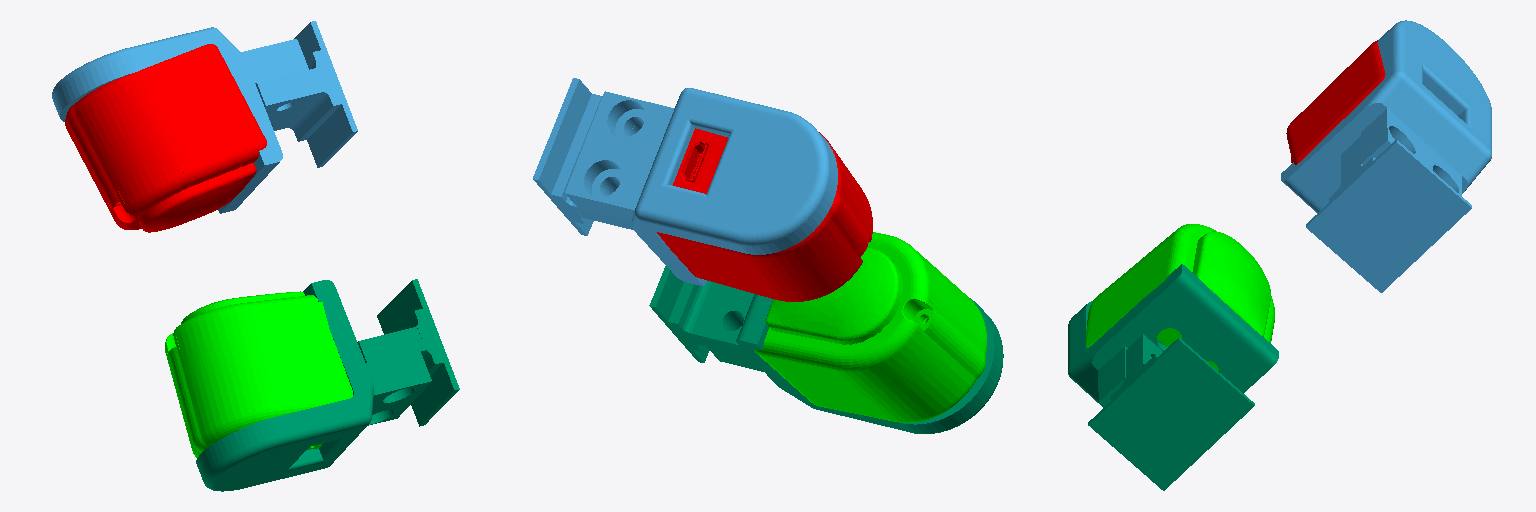
The robot description file, URDF, robot "panda":
<?xml version="1.0" ?>
<!-- =================================================================================== -->
<!-- |    This document was autogenerated by xacro from panda_arm_hand.urdf.xacro      | -->
<!-- |    EDITING THIS FILE BY HAND IS NOT RECOMMENDED                                 | -->
<!-- =================================================================================== -->
<robot name="panda" xmlns:xacro="http://www.ros.org/wiki/xacro">
  <link name="panda_link0">
    <visual>
      <geometry>
        <mesh filename="package://franka_description_digit/meshes/visual/link0.dae"/>
      </geometry>
    </visual>
    <collision>
      <geometry>
        <mesh filename="package://franka_description_digit/meshes/collision/link0.stl"/>
      </geometry>
    </collision>
    <inertial>
      <origin rpy="0 0 0" xyz="0 0 0"/>
      <mass value="2.8142028896"/>
      <inertia ixx="0.0129886979" ixy="0.0" ixz="0.0" iyy="0.0165355284" iyz="0" izz="0.0203311636"/>
    </inertial>
  </link>
  <link name="panda_link1">
    <visual>
      <geometry>
        <mesh filename="package://franka_description_digit/meshes/visual/link1.dae"/>
      </geometry>
    </visual>
    <collision>
      <geometry>
        <mesh filename="package://franka_description_digit/meshes/collision/link1.stl"/>
      </geometry>
    </collision>
    <inertial>
      <origin rpy="0 0 0" xyz="0 0 0"/>
      <mass value="2.3599995791"/>
      <inertia ixx="0.0186863903" ixy="0.0" ixz="0.0" iyy="0.0143789874" iyz="0" izz="0.00906812"/>
    </inertial>
  </link>
  <joint name="panda_joint1" type="revolute">
    <safety_controller k_position="100.0" k_velocity="40.0" soft_lower_limit="-2.8973" soft_upper_limit="2.8973"/>
    <origin rpy="0 0 0" xyz="0 0 0.333"/>
    <parent link="panda_link0"/>
    <child link="panda_link1"/>
    <axis xyz="0 0 1"/>
    <limit effort="87" lower="-2.8973" upper="2.8973" velocity="2.1750"/>
  </joint>
  <link name="panda_link2">
    <visual>
      <geometry>
        <mesh filename="package://franka_description_digit/meshes/visual/link2.dae"/>
      </geometry>
    </visual>
    <collision>
      <geometry>
        <mesh filename="package://franka_description_digit/meshes/collision/link2.stl"/>
      </geometry>
    </collision>
    <inertial>
      <origin rpy="0 0 0" xyz="0 0 0"/>
      <mass value="2.379518833"/>
      <inertia ixx="0.0190388734" ixy="0.0" ixz="0.0" iyy="0.0091429124" iyz="0" izz="0.014697537"/>
    </inertial>
  </link>
  <joint name="panda_joint2" type="revolute">
    <safety_controller k_position="100.0" k_velocity="40.0" soft_lower_limit="-1.7628" soft_upper_limit="1.7628"/>
    <origin rpy="-1.57079632679 0 0" xyz="0 0 0"/>
    <parent link="panda_link1"/>
    <child link="panda_link2"/>
    <axis xyz="0 0 1"/>
    <limit effort="87" lower="-1.7628" upper="1.7628" velocity="2.1750"/>
  </joint>
  <link name="panda_link3">
    <visual>
      <geometry>
        <mesh filename="package://franka_description_digit/meshes/visual/link3.dae"/>
      </geometry>
    </visual>
    <collision>
      <geometry>
        <mesh filename="package://franka_description_digit/meshes/collision/link3.stl"/>
      </geometry>
    </collision>
    <inertial>
      <origin rpy="0 0 0" xyz="0 0 0"/>
      <mass value="2.6498823337"/>
      <inertia ixx="0.0129300178" ixy="0.0" ixz="0.0" iyy="0.0150242121" iyz="0" izz="0.0142734598"/>
    </inertial>
  </link>
  <joint name="panda_joint3" type="revolute">
    <safety_controller k_position="100.0" k_velocity="40.0" soft_lower_limit="-2.8973" soft_upper_limit="2.8973"/>
    <origin rpy="1.57079632679 0 0" xyz="0 -0.316 0"/>
    <parent link="panda_link2"/>
    <child link="panda_link3"/>
    <axis xyz="0 0 1"/>
    <limit effort="87" lower="-2.8973" upper="2.8973" velocity="2.1750"/>
  </joint>
  <link name="panda_link4">
    <visual>
      <geometry>
        <mesh filename="package://franka_description_digit/meshes/visual/link4.dae"/>
      </geometry>
    </visual>
    <collision>
      <geometry>
        <mesh filename="package://franka_description_digit/meshes/collision/link4.stl"/>
      </geometry>
    </collision>
    <inertial>
      <origin rpy="0 0 0" xyz="0 0 0"/>
      <mass value="2.6948018744"/>
      <inertia ixx="0.0133874611" ixy="0.0" ixz="0.0" iyy="0.014514325" iyz="0" izz="0.0155175551"/>
    </inertial>
  </link>
  <joint name="panda_joint4" type="revolute">
    <safety_controller k_position="100.0" k_velocity="40.0" soft_lower_limit="-3.0718" soft_upper_limit="-0.0698"/>
    <origin rpy="1.57079632679 0 0" xyz="0.0825 0 0"/>
    <parent link="panda_link3"/>
    <child link="panda_link4"/>
    <axis xyz="0 0 1"/>
    <limit effort="87" lower="-3.0718" upper="-0.0698" velocity="2.1750"/>
  </joint>
  <link name="panda_link5">
    <visual>
      <geometry>
        <mesh filename="package://franka_description_digit/meshes/visual/link5.dae"/>
      </geometry>
    </visual>
    <collision>
      <geometry>
        <mesh filename="package://franka_description_digit/meshes/collision/link5.stl"/>
      </geometry>
    </collision>
    <inertial>
      <origin rpy="0 0 0" xyz="0 0 0"/>
      <mass value="2.9812816864"/>
      <inertia ixx="0.0325565705" ixy="0.0" ixz="0.0" iyy="0.0270660472" iyz="0" izz="0.0115023375"/>
    </inertial>
  </link>
  <joint name="panda_joint5" type="revolute">
    <safety_controller k_position="100.0" k_velocity="40.0" soft_lower_limit="-2.8973" soft_upper_limit="2.8973"/>
    <origin rpy="-1.57079632679 0 0" xyz="-0.0825 0.384 0"/>
    <parent link="panda_link4"/>
    <child link="panda_link5"/>
    <axis xyz="0 0 1"/>
    <limit effort="12" lower="-2.8973" upper="2.8973" velocity="2.6100"/>
  </joint>
  <link name="panda_link6">
    <visual>
      <geometry>
        <mesh filename="package://franka_description_digit/meshes/visual/link6.dae"/>
      </geometry>
    </visual>
    <collision>
      <geometry>
        <mesh filename="package://franka_description_digit/meshes/collision/link6.stl"/>
      </geometry>
    </collision>
    <inertial>
      <origin rpy="0 0 0" xyz="0 0 0"/>
      <mass value="1.1285806309"/>
      <inertia ixx="0.0026052565" ixy="0.0" ixz="0.0" iyy="0.0039897229" iyz="0" izz="0.0047048591"/>
    </inertial>
  </link>
  <joint name="panda_joint6" type="revolute">
    <safety_controller k_position="100.0" k_velocity="40.0" soft_lower_limit="-0.0175" soft_upper_limit="3.7525"/>
    <origin rpy="1.57079632679 0 0" xyz="0 0 0"/>
    <parent link="panda_link5"/>
    <child link="panda_link6"/>
    <axis xyz="0 0 1"/>
    <limit effort="12" lower="-0.0175" upper="3.7525" velocity="2.6100"/>
  </joint>
  <link name="panda_link7">
    <visual>
      <geometry>
        <mesh filename="package://franka_description_digit/meshes/visual/link7.dae"/>
      </geometry>
    </visual>
    <collision>
      <geometry>
        <mesh filename="package://franka_description_digit/meshes/collision/link7.stl"/>
      </geometry>
    </collision>
    <inertial>
      <origin rpy="0 0 0" xyz="0 0 0"/>
      <mass value="0.4052912465"/>
      <inertia ixx="0.0006316592" ixy="0.0" ixz="0.0" iyy="0.0006319639" iyz="0" izz="0.0010607721"/>
    </inertial>
  </link>
  <joint name="panda_joint7" type="revolute">
    <safety_controller k_position="100.0" k_velocity="40.0" soft_lower_limit="-2.8973" soft_upper_limit="2.8973"/>
    <origin rpy="1.57079632679 0 0" xyz="0.088 0 0"/>
    <parent link="panda_link6"/>
    <child link="panda_link7"/>
    <axis xyz="0 0 1"/>
    <limit effort="12" lower="-2.8973" upper="2.8973" velocity="2.6100"/>
  </joint>
  <!-- <link name="panda_link8"/>
  <joint name="panda_joint8" type="fixed">
    <origin rpy="0 0 0" xyz="0 0 0.107"/>
    <parent link="panda_link7"/>
    <child link="panda_link8"/>
    <axis xyz="0 0 0"/>
  </joint> -->
  <joint name="panda_hand_joint" type="fixed">
    <!-- <parent link="panda_link8"/> -->
    <parent link="panda_link7"/>
    <child link="panda_hand"/>
    <origin rpy="0 0 -0.785398163397" xyz="0 0 0"/>
  </joint>
  <link name="panda_hand">
    <visual>
      <geometry>
        <mesh filename="package://franka_description_digit/meshes/visual/hand.dae"/>
      </geometry>
    </visual>
    <collision>
      <geometry>
        <mesh filename="package://franka_description_digit/meshes/collision/hand.stl"/>
      </geometry>
    </collision>
    <inertial>
      <origin rpy="0 0 0" xyz="0 0 0"/>
      <mass value="0.5583304799"/>
      <inertia ixx="0.0023394448" ixy="0.0" ixz="0.0" iyy="0.0005782786" iyz="0" izz="0.0021310296"/>
    </inertial>
  </link>


  <!-- <link name="panda_leftfinger">
    <visual>
      <geometry>
        <mesh filename="package://franka_description_digit/meshes/visual/finger.dae"/>
      </geometry>
    </visual>
    <collision>
      <geometry>
        <mesh filename="package://franka_description_digit/meshes/collision/finger.stl"/>
      </geometry>
    </collision>
    <inertial>
      <origin rpy="0 0 0" xyz="0 0 0"/>
      <mass value="0.0140552232"/>
      <inertia ixx="4.20413082650939E-06" ixy="0.0" ixz="0.0" iyy="3.90263687466755E-06" iyz="0" izz="1.33474964199095E-06"/>
    </inertial>
  </link> -->

  <link name="panda_leftfinger">
  	<inertial>
      <origin rpy="0 0 0" xyz="0 0 0"/>
      <mass value="0.0140552232"/>
      <inertia ixx="4.20413082650939E-06" ixy="0.0" ixz="0.0" iyy="3.90263687466755E-06" iyz="0" izz="1.33474964199095E-06"/>
    </inertial>
    <visual>
      <geometry>
        <mesh filename="package://franka_description_digit/meshes/visual/digit_attachment.obj"/>
      </geometry>
    </visual>
    <collision>
      <geometry>
        <mesh filename="package://franka_description_digit/meshes/collision/digit_attachment.obj"/>
      </geometry>
    </collision>
  </link>



  <!-- <link name="panda_rightfinger">
    <visual>
      <origin rpy="0 0 3.14159265359" xyz="0 0 0"/>
      <geometry>
        <mesh filename="package://franka_description_digit/meshes/visual/finger.dae"/>
      </geometry>
    </visual>
    <collision>
      <origin rpy="0 0 3.14159265359" xyz="0 0 0"/>
      <geometry>
        <mesh filename="package://franka_description_digit/meshes/collision/finger.stl"/>
      </geometry>
    </collision>
    <inertial>
      <origin rpy="0 0 0" xyz="0 0 0"/>
      <mass value="0.0140552232"/>
      <inertia ixx="4.20413082650939E-06" ixy="0.0" ixz="0.0" iyy="3.90263687466755E-06" iyz="0" izz="1.33474964199095E-06"/>
    </inertial>
  </link> -->

  <link name="panda_rightfinger">    
  	<inertial>
      <origin rpy="0 0 0" xyz="0 0 0"/>
      <mass value="0.0140552232"/>
      <inertia ixx="4.20413082650939E-06" ixy="0.0" ixz="0.0" iyy="3.90263687466755E-06" iyz="0" izz="1.33474964199095E-06"/>
    </inertial>
    <visual>
      <origin rpy="0 0 3.14159265359" xyz="0 0 0"/>
      <geometry>
        <mesh filename="package://franka_description_digit/meshes/visual/digit_attachment.obj"/>
      </geometry>
    </visual>
    <collision>
      <origin rpy="0 0 3.14159265359" xyz="0 0 0"/>
      <geometry>
        <mesh filename="package://franka_description_digit/meshes/collision/digit_attachment.obj"/>
      </geometry>
    </collision>
  </link>


  <joint name="panda_finger_joint1" type="prismatic">
    <parent link="panda_hand"/>
    <child link="panda_leftfinger"/>
    <!-- <origin rpy="0 0 0" xyz="0 0 -0.0584"/> -->
    <!-- <axis xyz="0 1 0"/> -->
    <origin rpy="3.14 0 0" xyz="0 0 0.095"/>
    <axis xyz="0 1 0"/>
    <limit effort="20" lower="0.020" upper="0.06" velocity="0.2"/>
  </joint>

  <joint name="panda_finger_joint2" type="prismatic">
    <parent link="panda_hand"/>
    <child link="panda_rightfinger"/>
    <!-- <origin rpy="0 0 0" xyz="0 0 0.0584"/>
    <axis xyz="0 -1 0"/> -->
    <origin rpy="3.14 0 0" xyz="0 0 0.095"/>
    <axis xyz="0 -1 0"/>
    <limit effort="20" lower="0.020" upper="0.06" velocity="0.2"/>
    <mimic joint="panda_finger_joint1"/>
  </joint>


  <link name="finger_left_tip">
      <contact>
        <friction_anchor/>
        <lateral_friction value="1"/>
        <rolling_friction value="0.1"/>
        <contact_cfm value="0.0"/>
        <contact_erp value="1.0"/>
      </contact>
      <inertial>
        <origin rpy="0 0 0" xyz="0 0 0"/>
        <mass value="0.0140552232"/>
        <inertia ixx="4.20413082650939E-06" ixy="0.0" ixz="0.0" iyy="3.90263687466755E-06" iyz="0" izz="1.33474964199095E-06"/>
      </inertial>
      <visual>
          <geometry>
             <mesh filename="package://franka_description_digit/digit_center/digit_center_cam.stl"/>
          </geometry>
          <material name="red">
            <color rgba="1. 0. 0. 1"/>
          </material>
      </visual>
      <collision>
          <geometry>
             <mesh filename="package://franka_description_digit/digit_center/digit_center_cam.stl"/>
         </geometry>
     </collision>
  </link>

  <link name="finger_right_tip">
      <contact>
        <friction_anchor/>
        <lateral_friction value="1"/>
        <rolling_friction value="0.1"/>
        <contact_cfm value="0.0"/>
        <contact_erp value="1.0"/>
      </contact>
      <inertial>
        <origin rpy="0 0 0" xyz="0 0 0"/>
        <mass value="0.0140552232"/>
        <inertia ixx="4.20413082650939E-06" ixy="0.0" ixz="0.0" iyy="3.90263687466755E-06" iyz="0" izz="1.33474964199095E-06"/>
      </inertial>
      <visual>
          <geometry>
             <mesh filename="package://franka_description_digit/digit_center/digit_center_cam.stl"/>
          </geometry>
          <material name="green">
            <color rgba="0. 1. 0. 1"/>
          </material>
      </visual>
      <collision>
          <geometry>
             <mesh filename="package://franka_description_digit/digit_center/digit_center_cam.stl"/>
         </geometry>
     </collision>
  </link>

  <joint name="joint_finger_tip_left" type="fixed">
      <origin xyz="0.0 -0.0075 0.0058" rpy="0 3.26 1.57" />
      <!-- <origin xyz="0.0 -0.008 -0.0" rpy="0 3.14 1.57" /> -->
     <parent link="panda_leftfinger"/>
     <child link="finger_left_tip" />
     <dynamics friction="100" damping="100" />
     <axis xyz="0 1 0"/>
     <limit effort="100" velocity="100"/>
  </joint>

  <joint name="joint_finger_tip_right" type="fixed">
      <origin xyz="0.0 0.008 0.0058" rpy="0 3.26 -1.57" />
      <!-- <origin xyz="0.0 0.008 -0.0" rpy="0 3.14 -1.57" /> -->
     <!-- <origin xyz="-0.06 0.045 0.0" rpy="-3.14 -0.12 -3.14" /> -->
     <parent link="panda_rightfinger"/>
     <child link="finger_right_tip" />
     <dynamics friction="100" damping="100" />
     <axis xyz="0 -1 0"/>
     <limit effort="100" velocity="100"/>
  </joint>



</robot>

--- Facts derived from the render (not from the file) ---
3 views of the same robot in one strip: view 1: azimuth 30°, elevation 25°; view 2: azimuth 150°, elevation 25°; view 3: azimuth 270°, elevation 25° (orthographic).
Model panda with 13 links and 12 joints (7 revolute, 2 prismatic, 3 fixed), rooted at panda_link0, posed all joints at 0 but 3 set to mid-range because 0 is outside their limits (panda_joint4 = -1.57, panda_finger_joint1 = 0.04, panda_finger_joint2 = 0.04).
Links seen in each view (by area): view 1: finger_left_tip, panda_rightfinger, finger_right_tip, panda_leftfinger; view 2: panda_leftfinger, finger_right_tip, finger_left_tip, panda_rightfinger; view 3: panda_leftfinger, panda_rightfinger, finger_right_tip, finger_left_tip.
Link boxes in pixels (x1=…): finger_left_tip: x1=65, y1=44, x2=266, y2=232; panda_rightfinger: x1=196, y1=279, x2=459, y2=491; finger_right_tip: x1=165, y1=291, x2=352, y2=457; panda_leftfinger: x1=52, y1=21, x2=357, y2=213; panda_leftfinger: x1=533, y1=78, x2=837, y2=286; finger_right_tip: x1=754, y1=232, x2=986, y2=422; finger_left_tip: x1=657, y1=128, x2=872, y2=301; panda_rightfinger: x1=649, y1=266, x2=1003, y2=433; panda_leftfinger: x1=1281, y1=20, x2=1491, y2=292; panda_rightfinger: x1=1068, y1=264, x2=1278, y2=490; finger_right_tip: x1=1086, y1=224, x2=1274, y2=371; finger_left_tip: x1=1286, y1=40, x2=1385, y2=164.
Bounding box of the posed robot: 0.0575 × 0.0824 × 0.0824 m (x, y, z).
4 mesh visuals loaded from 11 distinct referenced files (1 binary STL, 1 OBJ); not drawn: 9 (reference not matched to a file when rendering).